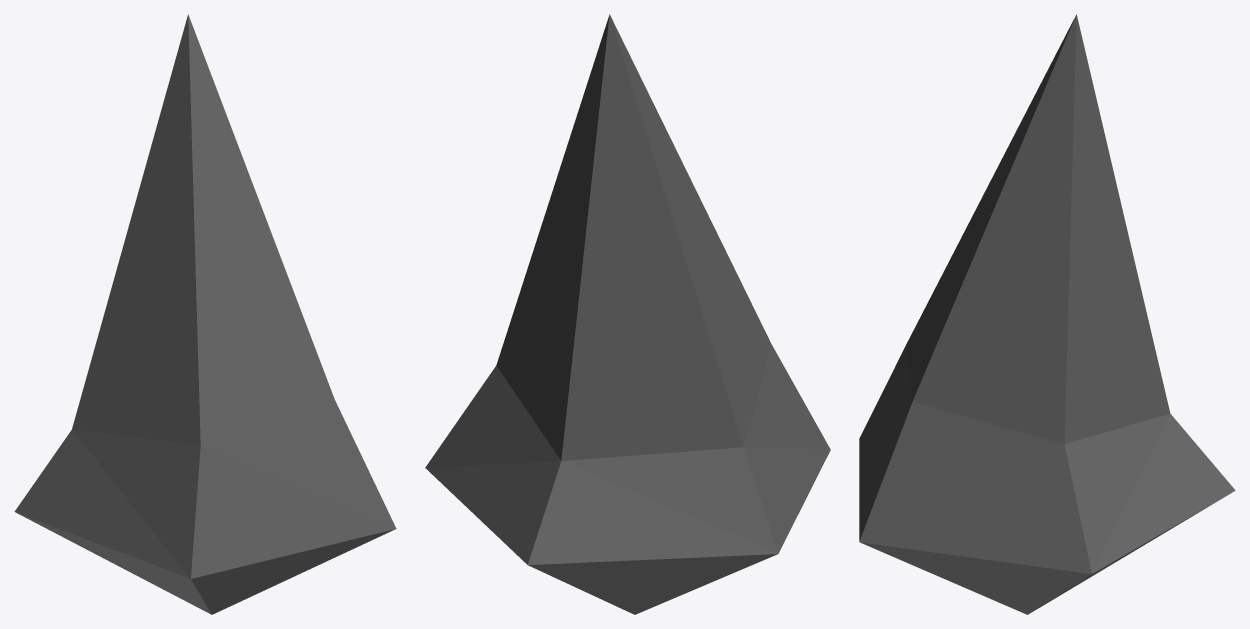
File: Obstacle_Spike_Stone.fbx
3 renders of one model, left to right at view 1: azimuth 30°, elevation 25°; view 2: azimuth 150°, elevation 25°; view 3: azimuth 270°, elevation 25°, orthographic. The views are drawn at different scales.
Parts seen in each view (by area): view 1: Obstacle_Spike_Stone; view 2: Obstacle_Spike_Stone; view 3: Obstacle_Spike_Stone.
Boxes of the visible parts, x1,y1,x2,y2 form: Obstacle_Spike_Stone: (14, 14, 396, 614); Obstacle_Spike_Stone: (425, 14, 830, 614); Obstacle_Spike_Stone: (859, 14, 1235, 614).
Size of the model in its own units: 97.48 by 163 by 92.71.
